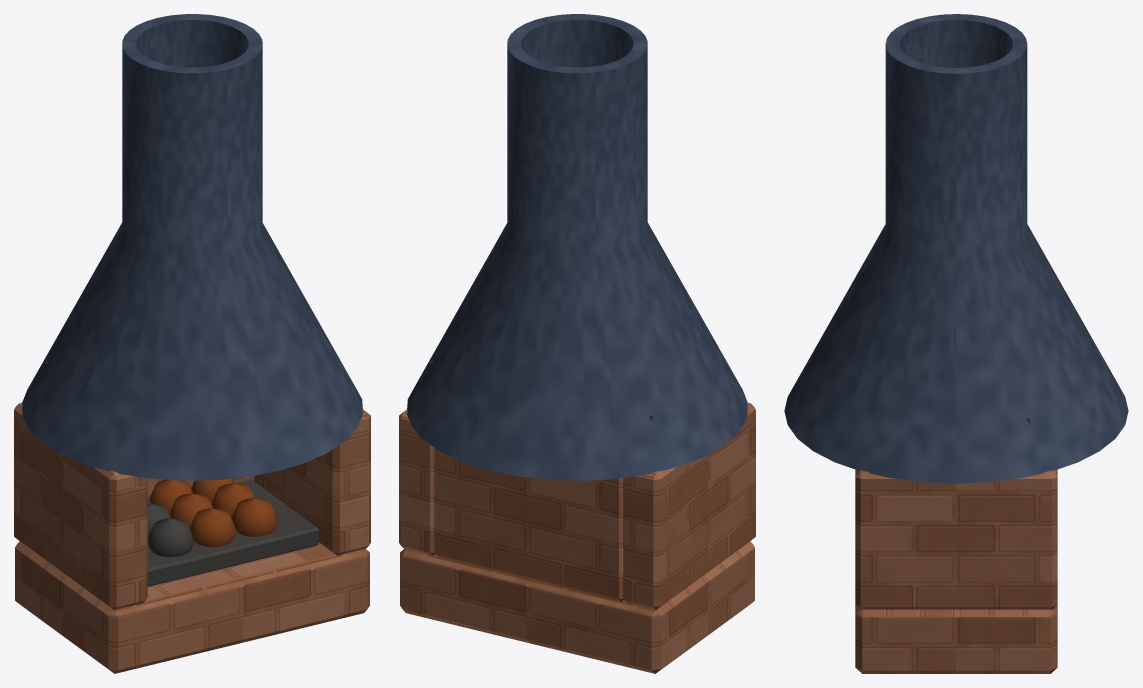
Rendered from Forge.fbx.
The picture shows the model from 3 angles, left to right: view 1: azimuth 30°, elevation 25°; view 2: azimuth 150°, elevation 25°; view 3: azimuth 270°, elevation 25°; orthographic projection.
Parts seen in each view (by area): view 1: Open iron smoke hood, Hearth masonry base, Hearth sidewall, Hearth sidewall.001, Recessed fire bed, Hot forge fuel, Hot forge fuel.001, Hot forge fuel.002, Hot forge fuel.005, Hot forge fuel.004, Hot forge fuel.007; view 2: Open iron smoke hood, Hearth masonry base, Hearth fireback, Hearth sidewall, Hearth sidewall.001; view 3: Open iron smoke hood, Hearth sidewall.001, Hearth masonry base.
Part boxes in pixels (x1,y1,x2,y2): Open iron smoke hood: (22, 14, 362, 480); Hearth masonry base: (15, 541, 369, 673); Hearth sidewall: (14, 403, 147, 609); Hearth sidewall.001: (254, 409, 370, 555); Recessed fire bed: (147, 479, 318, 586); Hot forge fuel: (147, 518, 194, 557); Hot forge fuel.001: (189, 508, 236, 546); Hot forge fuel.002: (231, 498, 278, 536); Hot forge fuel.005: (211, 483, 254, 517); Hot forge fuel.004: (169, 493, 212, 527); Hot forge fuel.007: (149, 479, 192, 512); Open iron smoke hood: (407, 14, 747, 480); Hearth masonry base: (400, 541, 754, 673); Hearth fireback: (434, 448, 623, 601); Hearth sidewall: (623, 403, 755, 609); Hearth sidewall.001: (399, 409, 434, 555); Open iron smoke hood: (784, 14, 1128, 483); Hearth sidewall.001: (855, 469, 1057, 609); Hearth masonry base: (855, 605, 1057, 673).
Size of the model in its own units: 170 by 310 by 170.
